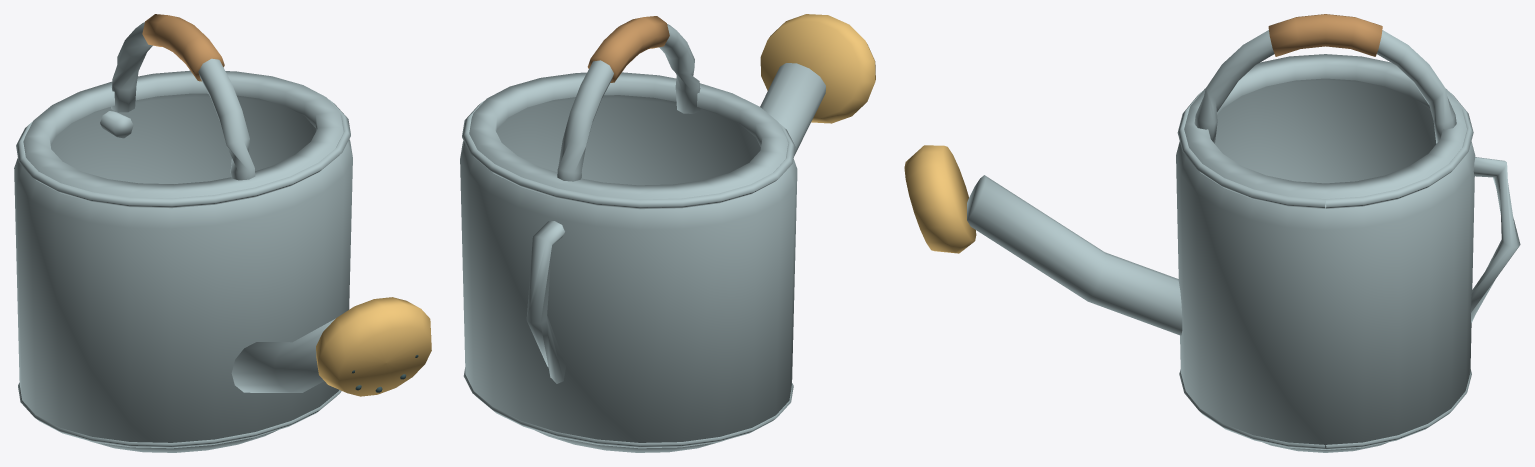
The model's file is arrosoir.glb.
3 renders of one model, left to right at view 1: azimuth 30°, elevation 25°; view 2: azimuth 150°, elevation 25°; view 3: azimuth 270°, elevation 25°, orthographic.
Parts seen in each view (by area): view 1: arrosoir; view 2: arrosoir; view 3: arrosoir.
Boxes of the visible parts, x1,y1,x2,y2 form: arrosoir: (14,14,431,452); arrosoir: (460,14,875,452); arrosoir: (904,14,1520,452).
Size of the model in its own units: 0.184 by 0.22 by 0.32.
